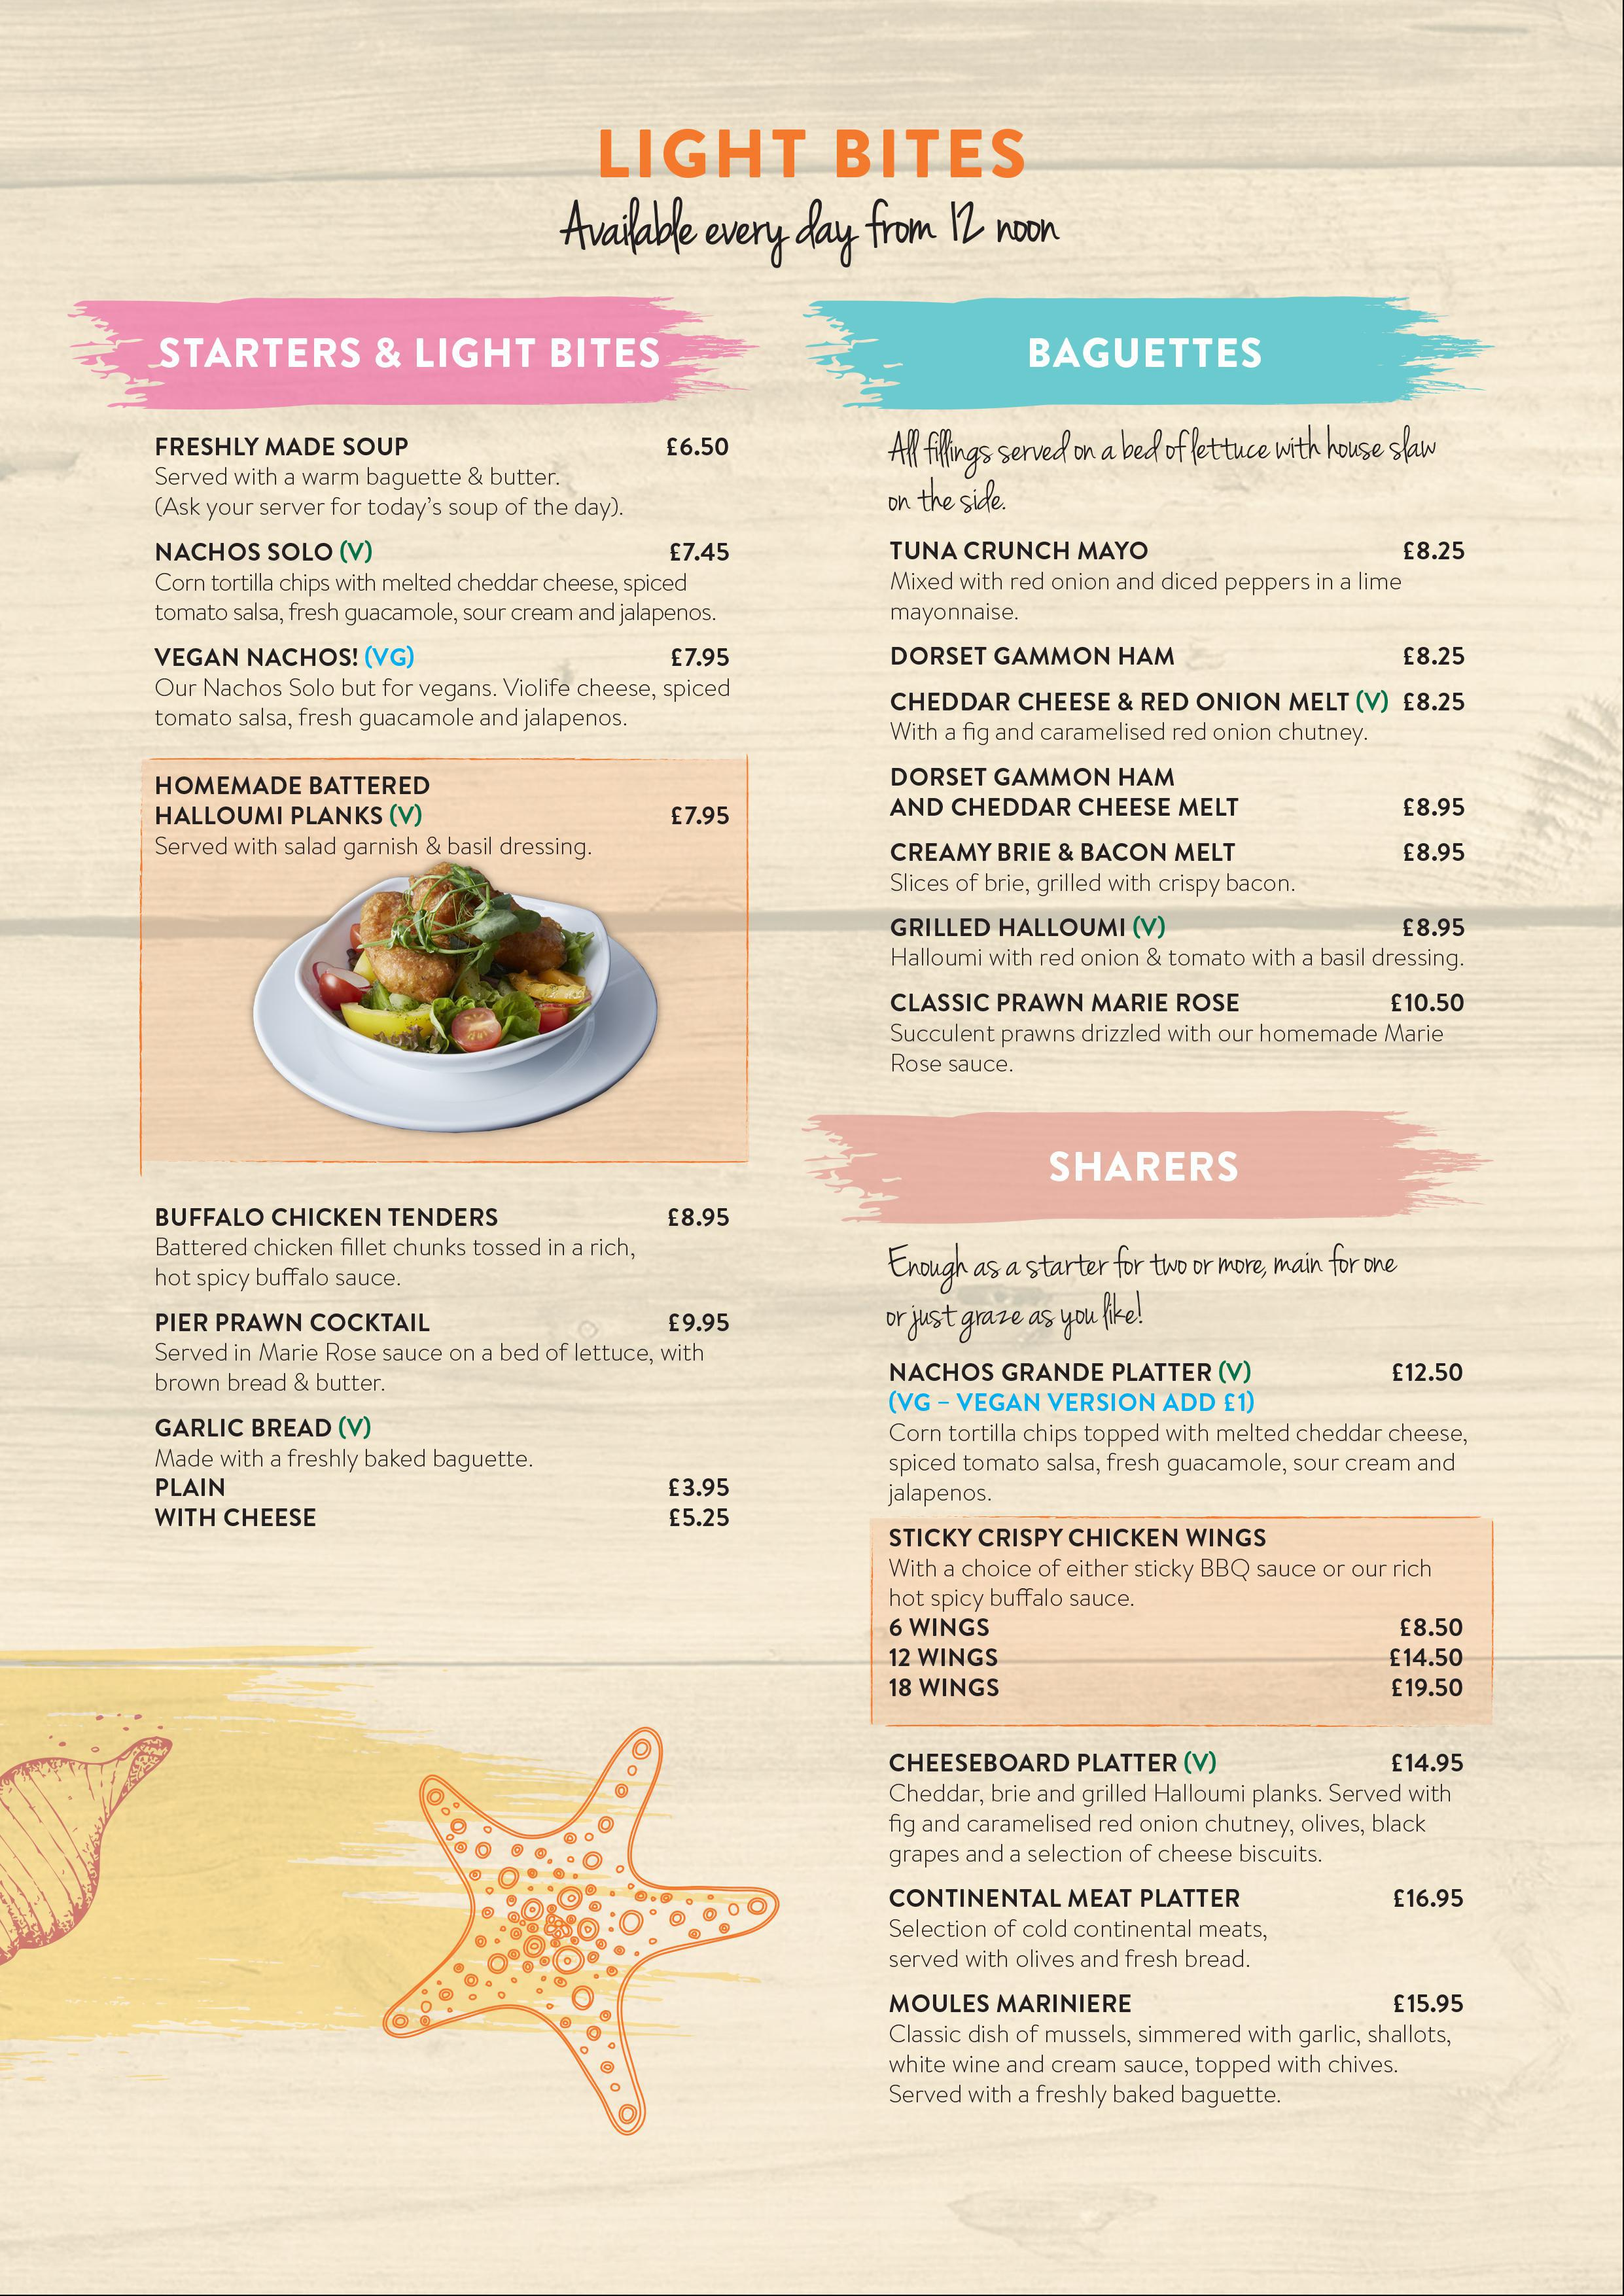description: (888, 1418, 1473, 1509), (888, 2020, 1454, 2110), (889, 1780, 1450, 1862), (156, 675, 735, 731), (155, 1339, 707, 1393), (153, 571, 722, 624), (888, 1555, 1432, 1609), (891, 567, 1404, 622), (153, 464, 627, 522), (889, 1022, 1445, 1072), (156, 1235, 642, 1291), (888, 1913, 1272, 1975), (889, 945, 1464, 971), (888, 718, 1371, 748), (889, 868, 1301, 899), (155, 833, 601, 861), (156, 1446, 541, 1472)
item: (888, 1358, 1476, 1505), (888, 1983, 1468, 2112), (153, 1414, 742, 1535), (884, 1525, 1466, 1641), (889, 1750, 1469, 1866), (151, 429, 733, 523), (153, 641, 736, 734), (149, 534, 731, 627), (151, 771, 738, 863), (153, 1202, 740, 1293), (888, 1883, 1468, 1975), (888, 534, 1471, 624), (151, 1309, 736, 1397), (886, 986, 1466, 1072), (888, 685, 1471, 750), (888, 910, 1471, 975), (884, 762, 1471, 822), (889, 836, 1469, 896), (889, 638, 1468, 671)
price: (1392, 1989, 1464, 2017), (663, 432, 733, 460), (1390, 1887, 1466, 1911), (1392, 1750, 1466, 1774), (668, 538, 731, 566), (666, 1309, 731, 1335), (1403, 687, 1466, 713), (1396, 1614, 1462, 1639), (1388, 1361, 1466, 1383), (1401, 915, 1466, 940), (666, 1476, 731, 1500), (1403, 538, 1468, 562), (1403, 643, 1466, 668), (668, 643, 729, 668), (670, 803, 731, 827), (1387, 993, 1464, 1012), (1403, 796, 1468, 819), (1403, 841, 1466, 864), (666, 1207, 731, 1228)
tittle: (888, 766, 1241, 820), (155, 771, 434, 827), (889, 689, 1353, 715), (151, 1202, 501, 1231), (886, 1358, 1255, 1386), (889, 989, 1244, 1017), (886, 1525, 1272, 1549), (888, 1887, 1244, 1911), (889, 1750, 1218, 1776), (889, 840, 1239, 864), (889, 913, 1169, 942), (888, 536, 1153, 564), (888, 1987, 1135, 2017), (153, 1310, 434, 1335), (889, 645, 1178, 668), (156, 1414, 380, 1442), (155, 432, 410, 457), (155, 641, 362, 671), (153, 538, 334, 564)
